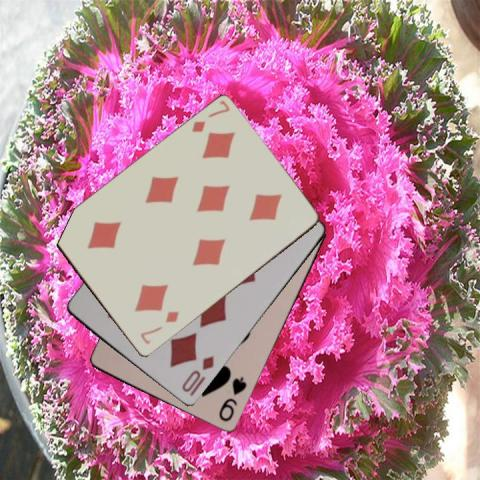10d: (179, 353, 215, 394)
7d: (137, 308, 181, 346), (188, 97, 231, 135)
9s: (216, 374, 248, 424)
